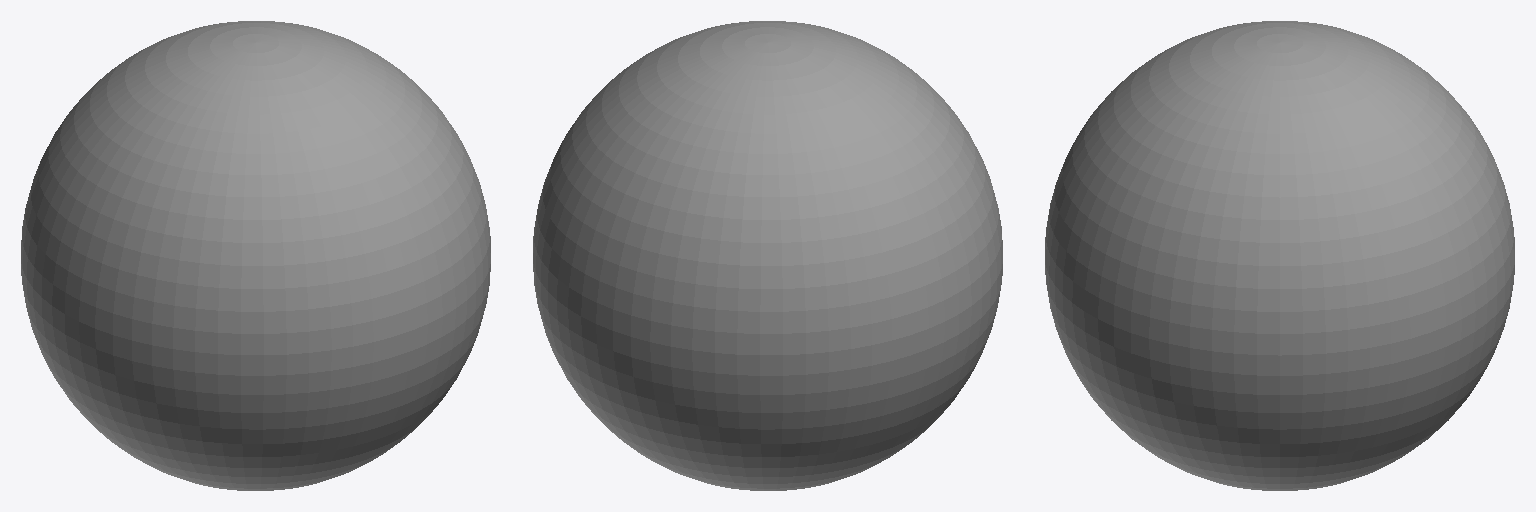
The model's file is earth.obj.
The picture shows the model from 3 angles: view 1: azimuth 30°, elevation 25°; view 2: azimuth 150°, elevation 25°; view 3: azimuth 270°, elevation 25°; orthographic projection.
Visible parts, largest first — view 1: Sphere002; view 2: Sphere002; view 3: Sphere002.
Part boxes in pixels (left/top/right/bottom): Sphere002: left=21, top=21, right=490, bottom=490; Sphere002: left=533, top=21, right=1002, bottom=490; Sphere002: left=1045, top=21, right=1514, bottom=490.
Size of the model in its own units: 702 by 702 by 702.